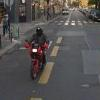Motorcycle: (14, 21, 54, 83)
